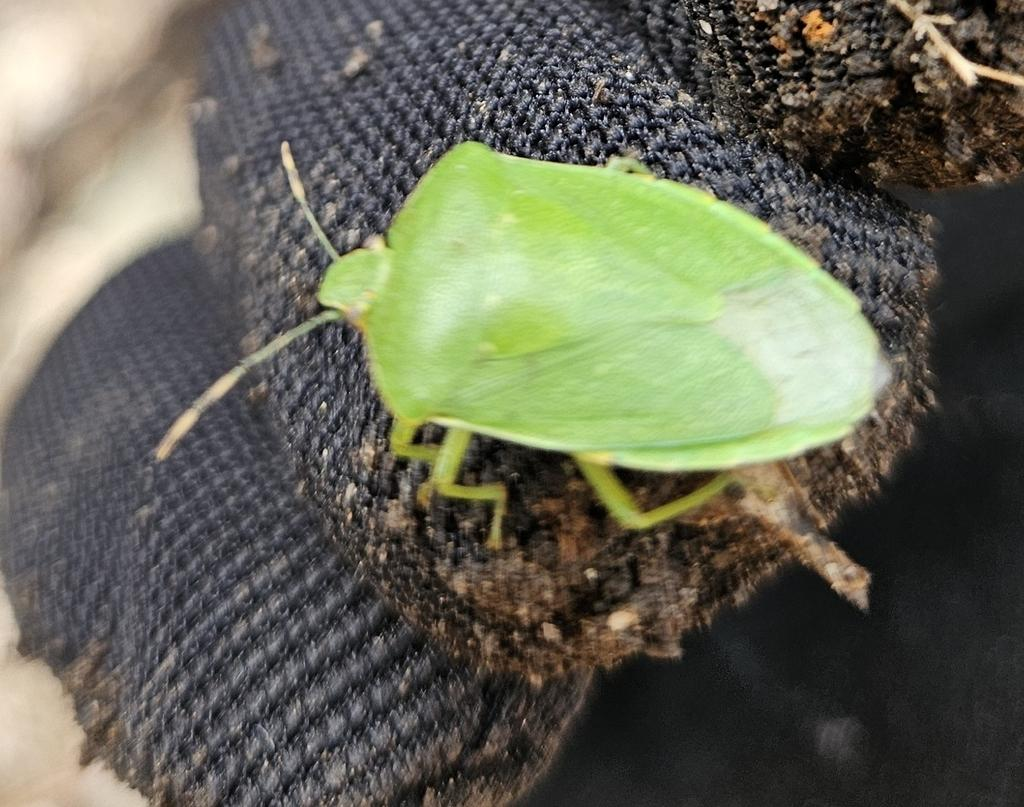stink_bugs: (111, 62, 946, 623)
